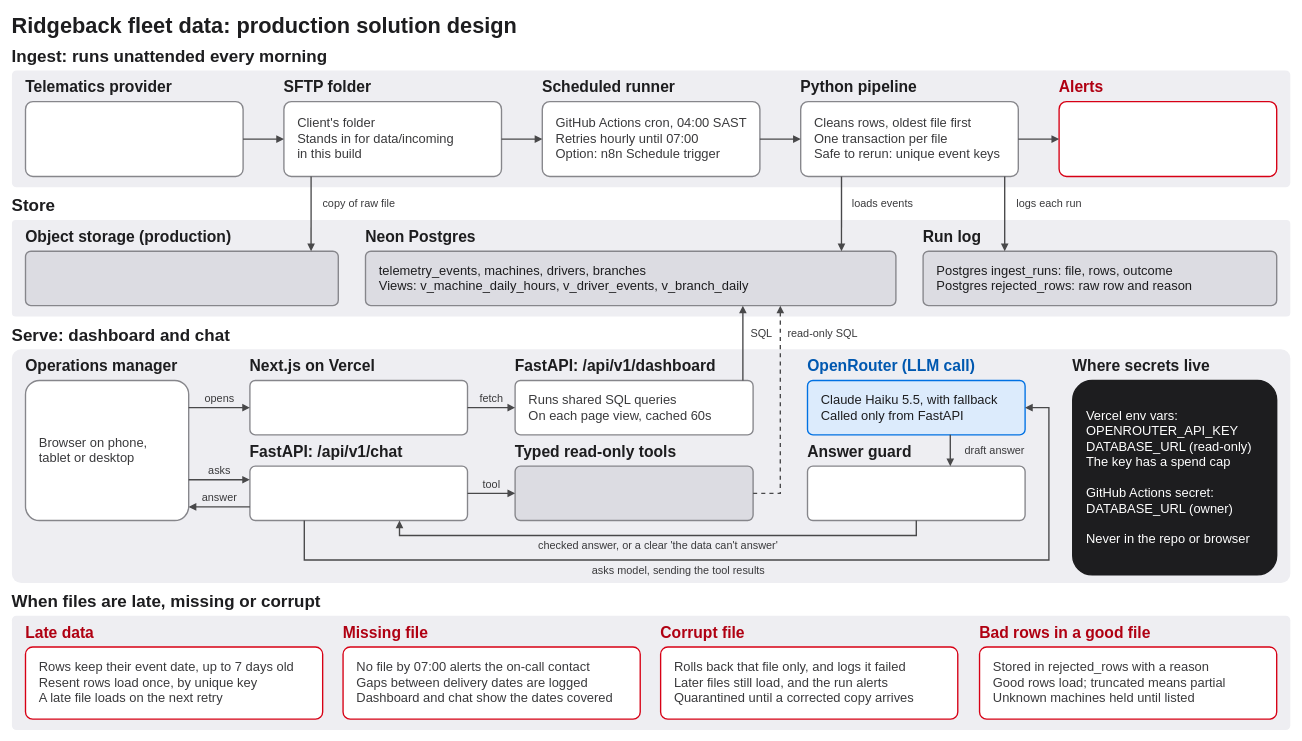
Image size: 1302x741. Some labels were removed from this diagram. The shapes that lost their labels are listed below. From the top down, each one's box as (x1, y1, x2, y2) in pixels, then its label:
(24, 101, 243, 177): Sends yesterday's events as a CSV at 04:00
(1058, 101, 1277, 177): Email or Slack webhook Failed, partial or missing files
(24, 250, 339, 306): Raw files kept as delivered Bad files moved to quarantine
(249, 379, 468, 435): Dashboard and chat UI No secrets, no database
(249, 465, 468, 521): Rate and length limits Tool loop, 5 rounds at most
(514, 465, 753, 521): Run hours, events, fleet, coverage Parameterised SQL, none free-form
(806, 465, 1025, 521): Figure not in a tool result: one retry, then withheld
